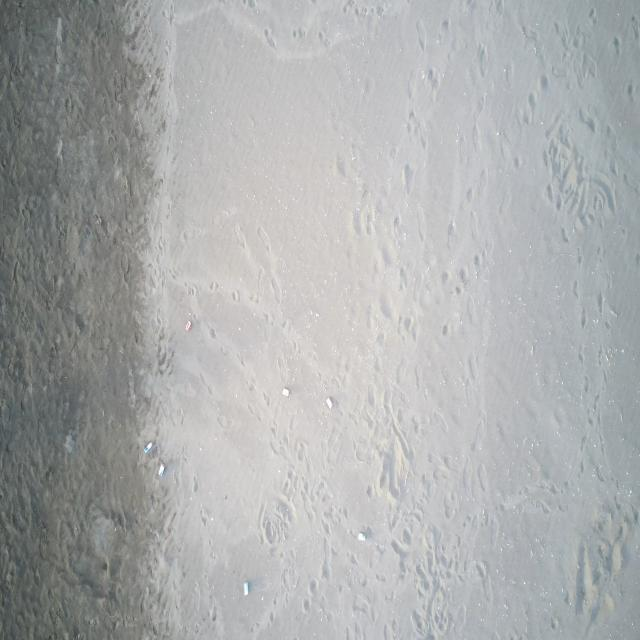Garbage: (64, 432, 75, 452), (143, 440, 151, 452), (243, 580, 249, 595), (184, 320, 192, 331), (324, 397, 332, 407), (158, 463, 164, 475), (357, 532, 366, 539), (281, 387, 288, 395)
